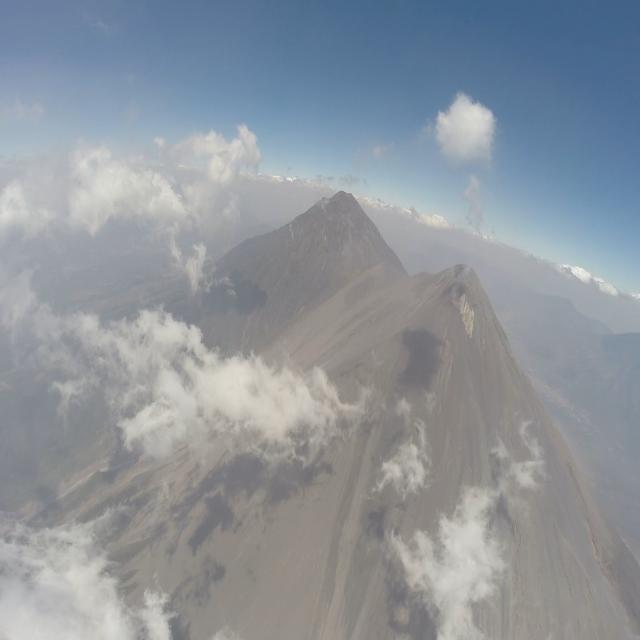Summit: (411, 255, 515, 343)
